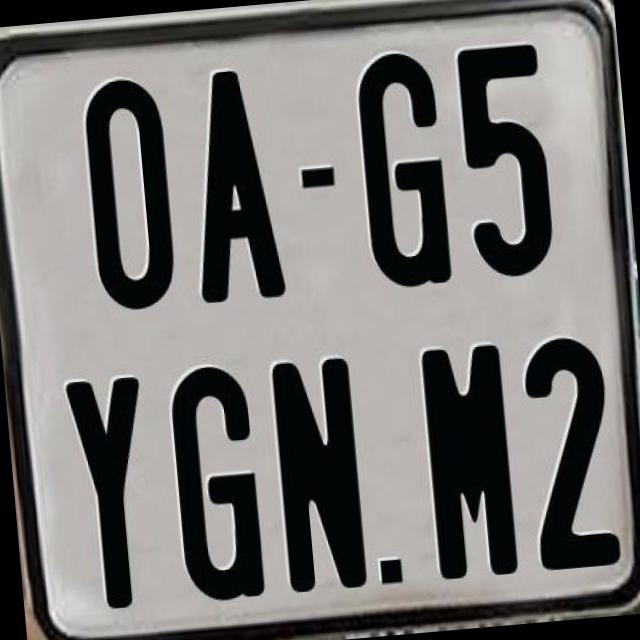0: (77, 74, 175, 317)
2: (521, 332, 625, 578)
5: (452, 42, 554, 280)
A: (178, 64, 282, 308)
G: (165, 362, 271, 609), (350, 47, 450, 292)
M: (420, 340, 527, 581)
N: (268, 356, 372, 592)
Y: (61, 373, 156, 611)
